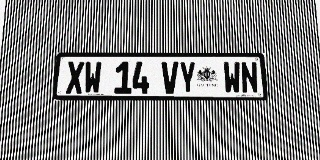1: (114, 62, 132, 94)
4: (132, 62, 149, 94)
N: (240, 62, 259, 94)
V: (161, 62, 179, 94)
W: (83, 62, 102, 94), (223, 62, 241, 94)
X: (66, 62, 84, 94)
Y: (179, 62, 196, 94)
